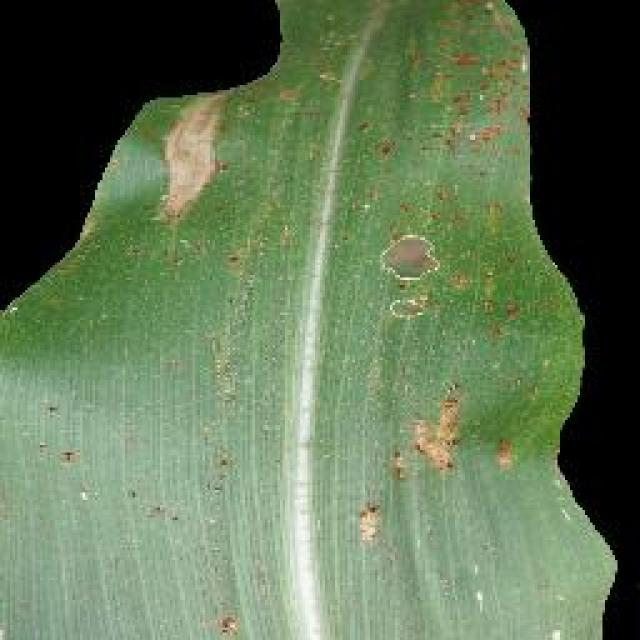Corn Common Rust: (205, 105, 590, 622)
